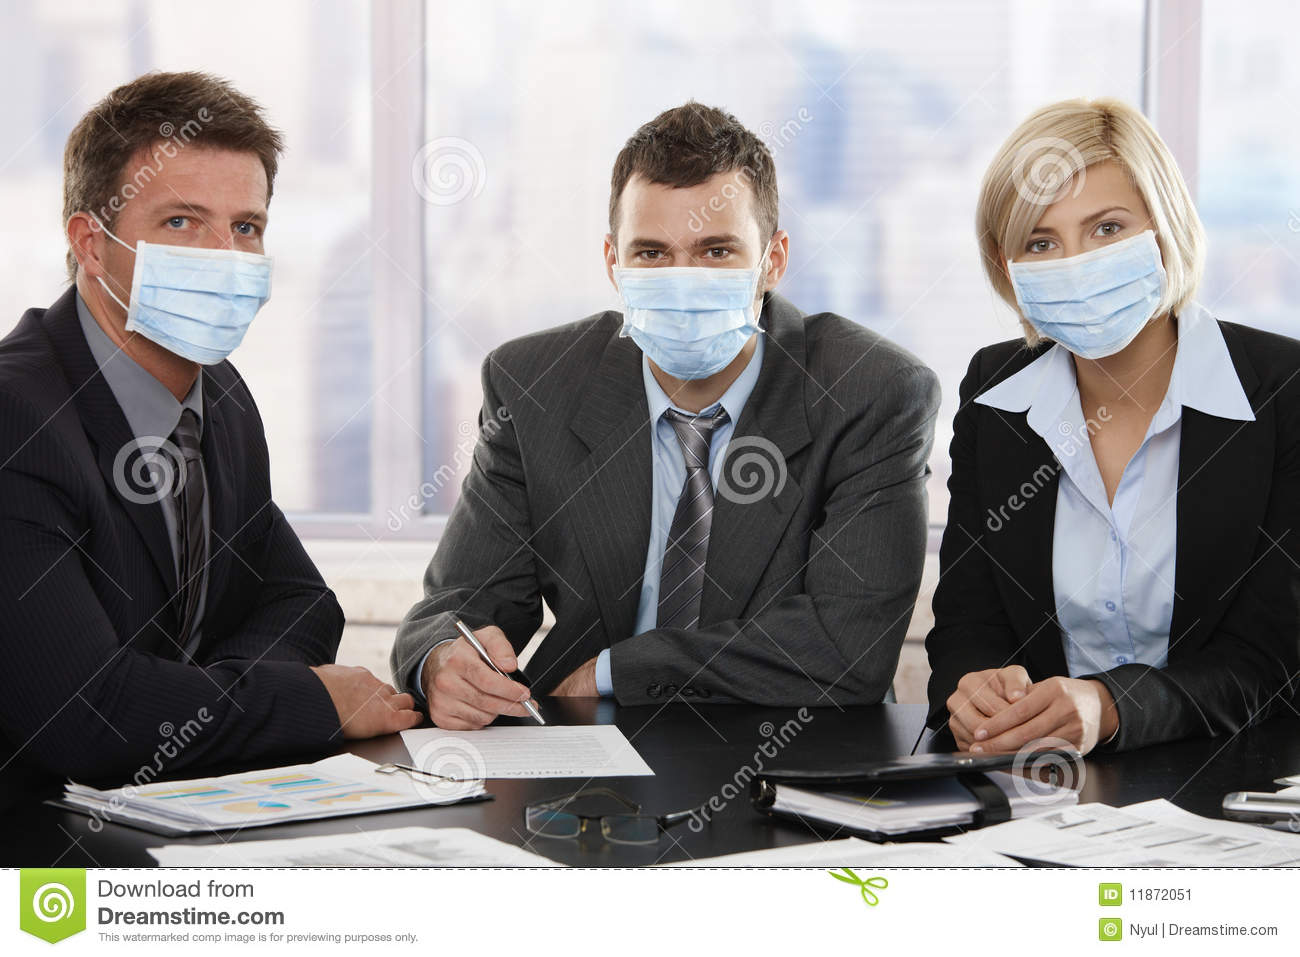mask: (1011, 230, 1172, 363), (126, 240, 273, 370), (610, 264, 758, 377)
